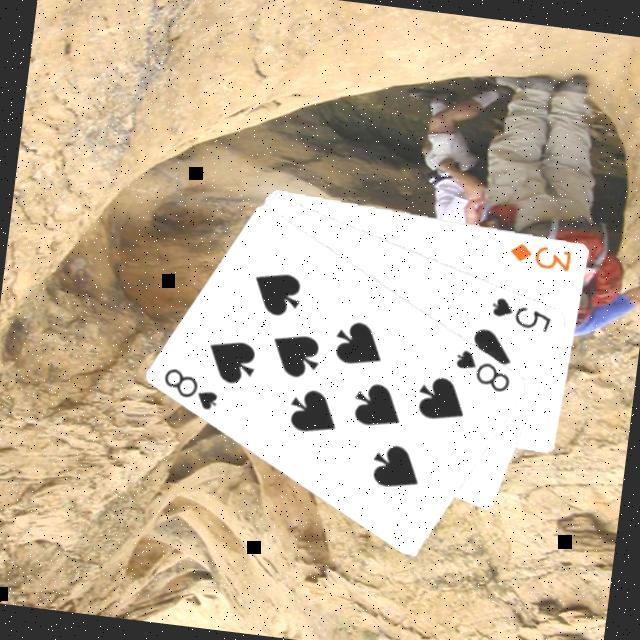3D: (506, 240, 577, 277)
5S: (489, 294, 559, 338)
8S: (451, 347, 520, 399), (158, 365, 226, 417)
